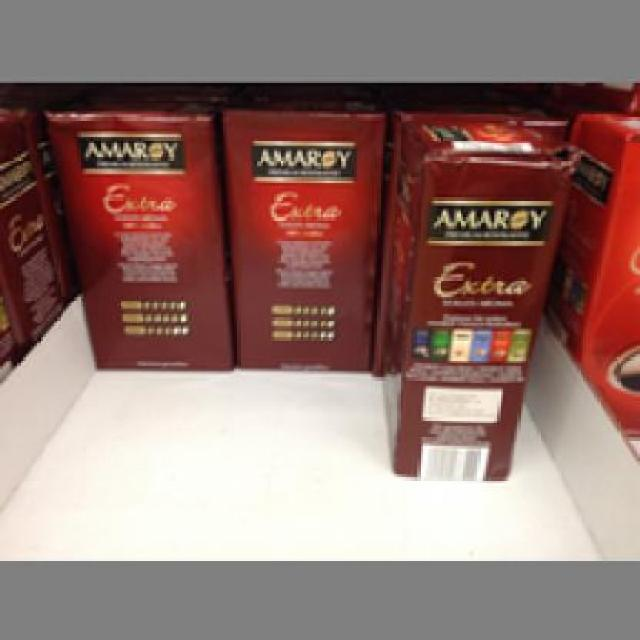Coffee: (374, 114, 574, 477), (42, 88, 228, 372), (217, 91, 383, 372)
